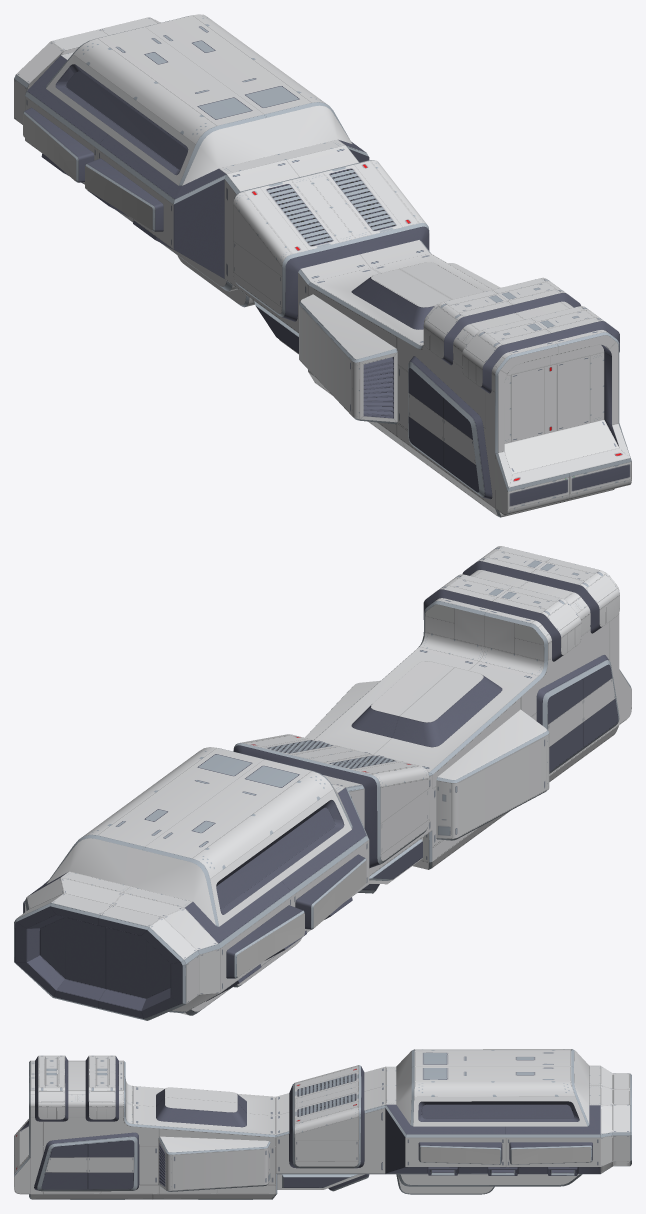
Rendered from Cruiser_Body_02.FBX.
3 views of the same model, one above another, from view 1: azimuth 30°, elevation 25°; view 2: azimuth 150°, elevation 25°; view 3: azimuth 270°, elevation 25° (orthographic). The views are drawn at different scales.
Parts seen in each view (by area): view 1: Cruiser_Body_02; view 2: Cruiser_Body_02; view 3: Cruiser_Body_02.
Boxes of the visible parts, x1,y1,x2,y2 form: Cruiser_Body_02: (14, 14, 631, 517); Cruiser_Body_02: (14, 546, 631, 1020); Cruiser_Body_02: (14, 1049, 631, 1199).
Size of the model in its own units: 92.51 by 72.09 by 330.
